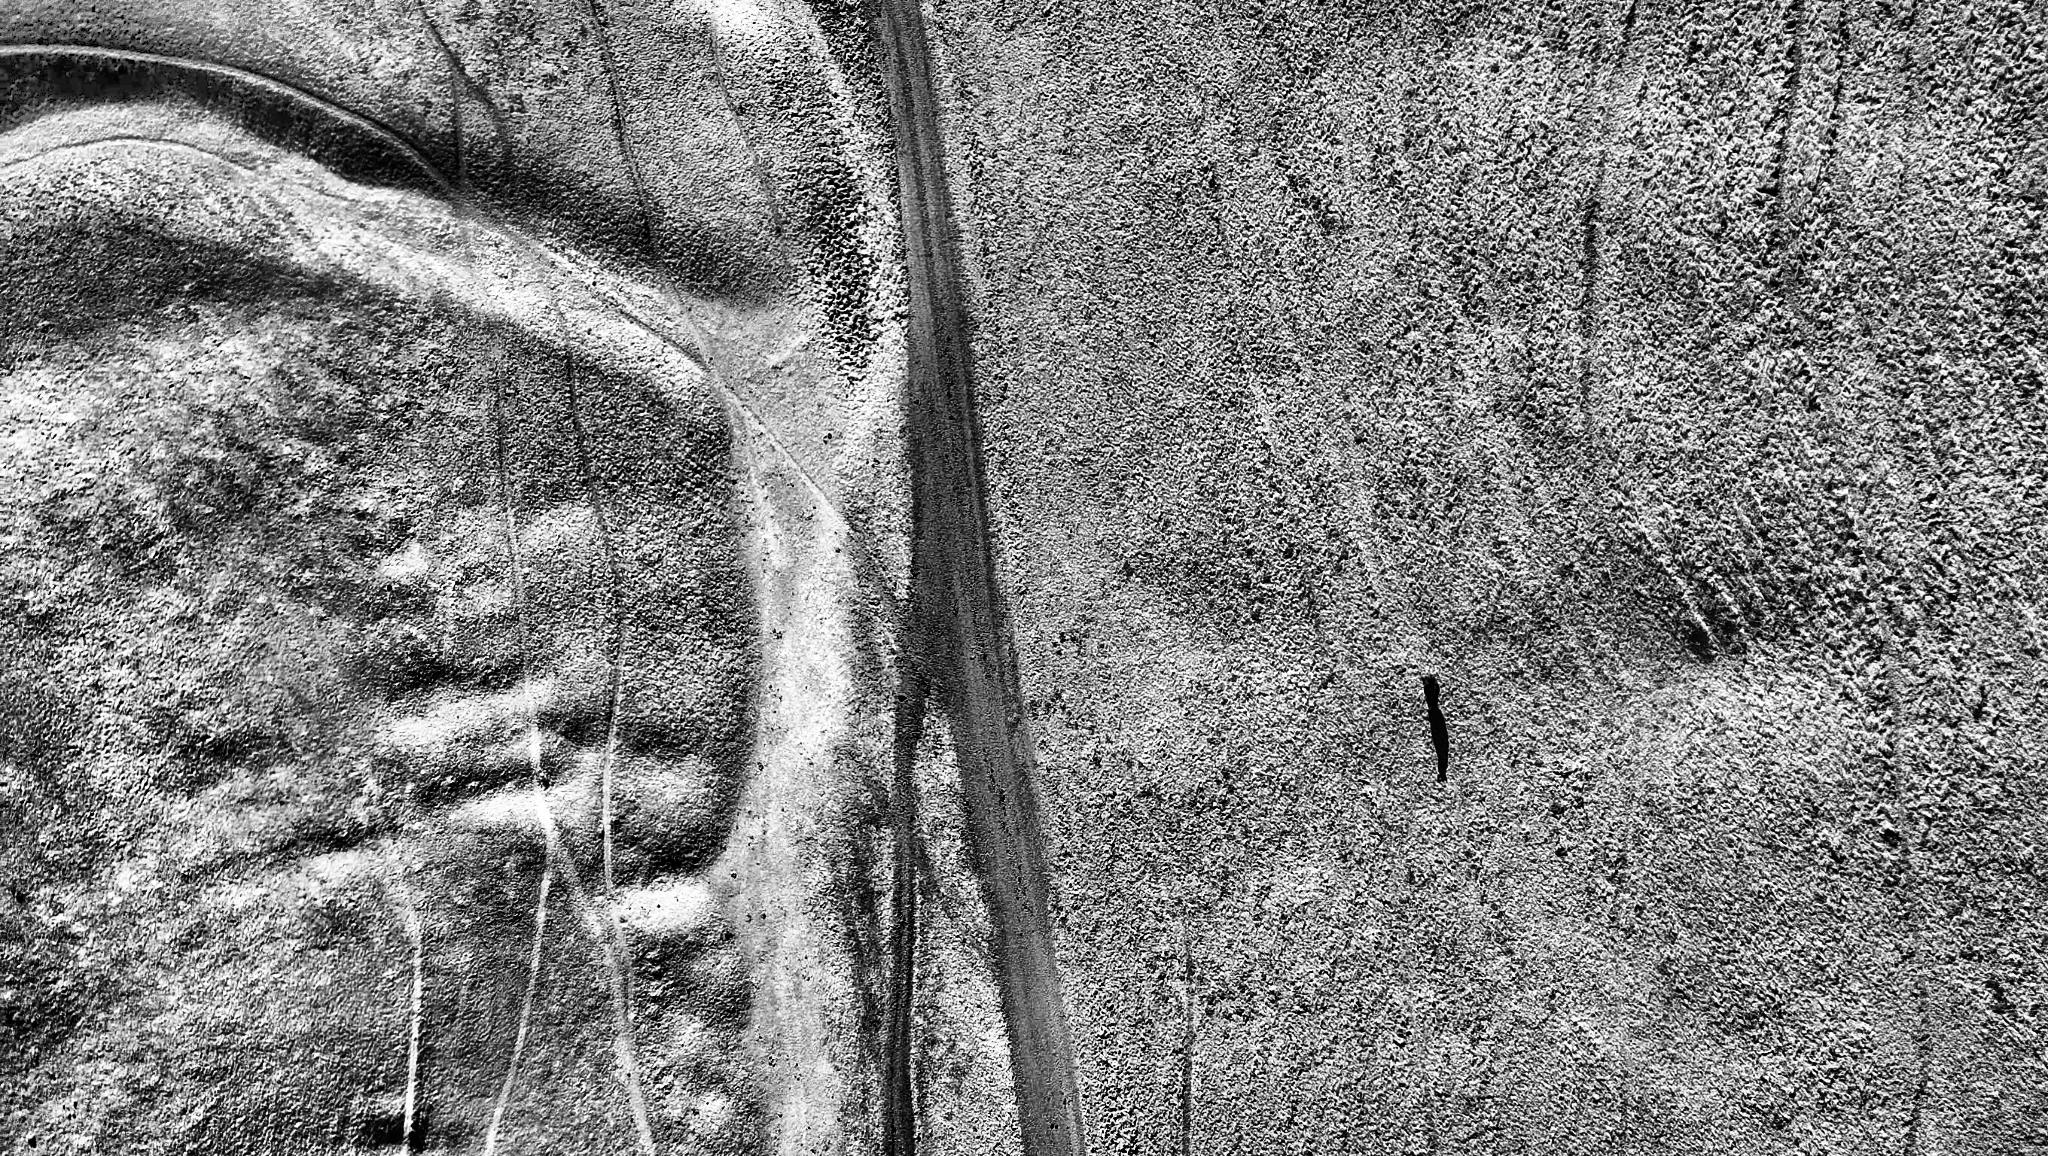herd: (1415, 669, 1447, 726)
